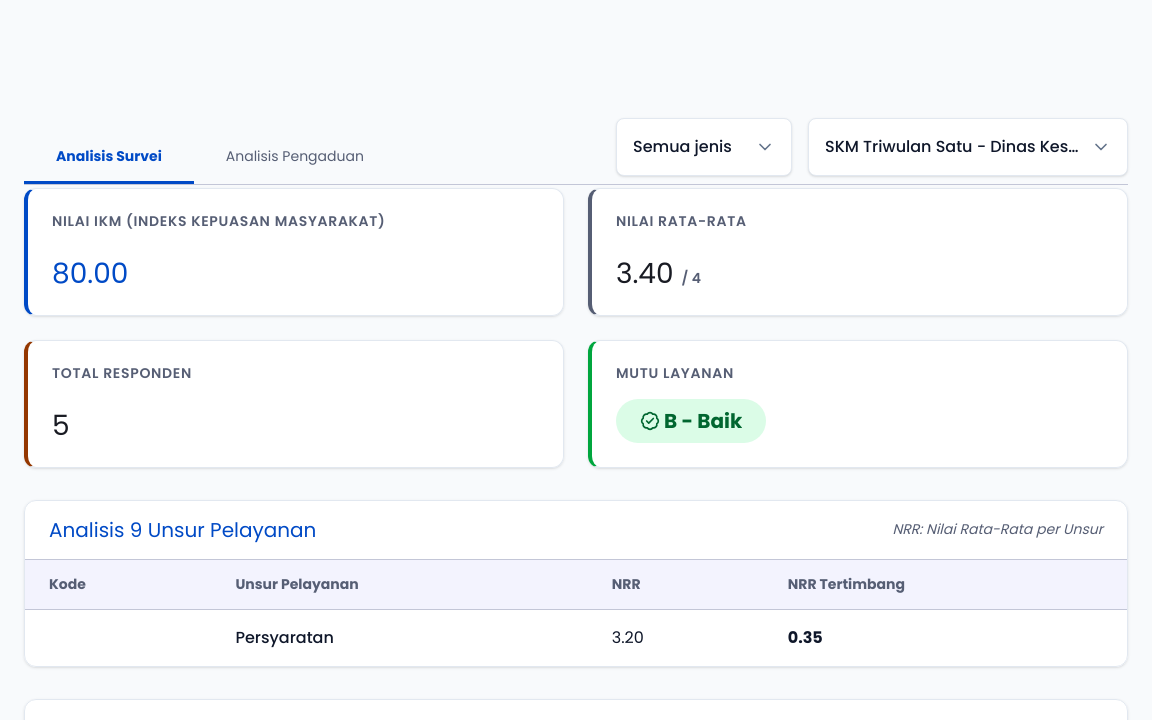
Statistik Admin Kab — penyaring jenis survei › tersaring dengan penyaring periode: periode lain tak ikut walau jenisnya cocok
This screenshot has width=1152, height=720.
What coordinates should you click on to do the following:
click the button named "jenis survei"
I would click on:
 (704, 147)
Its box is [616,118,792,176].
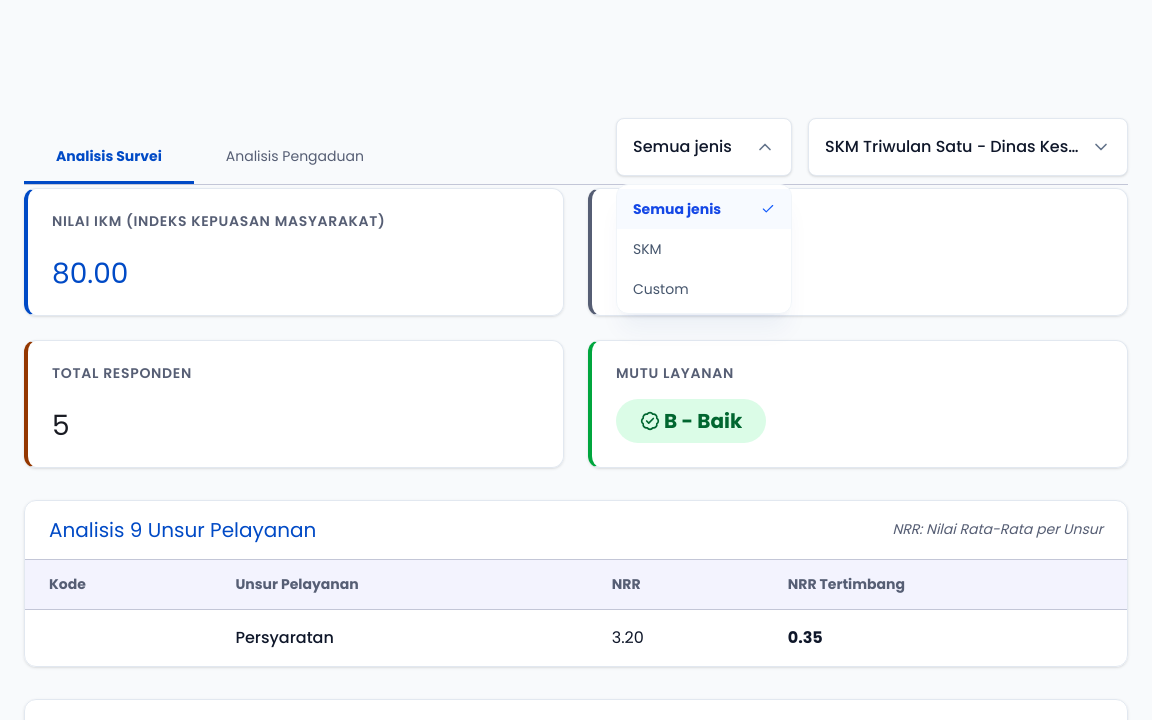
What coordinates should you click on to do the following:
click the button "Custom"
I would click on:
 (704, 289)
Its box is [617,269,791,309].
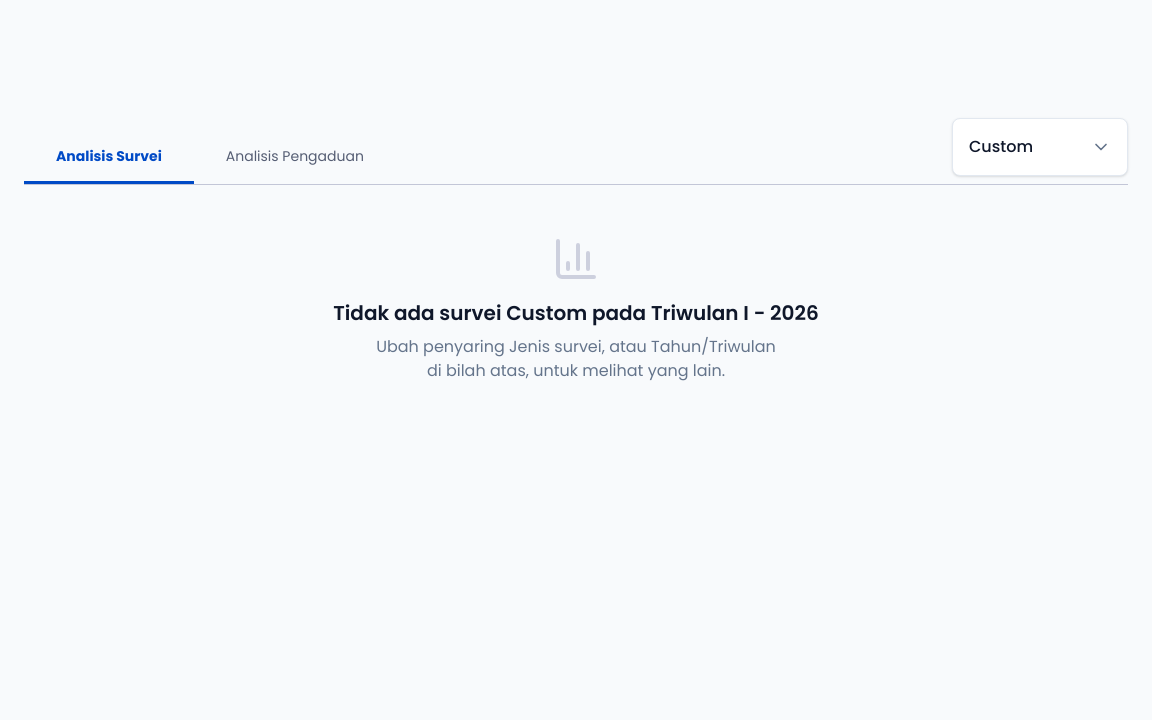
Expected: the heading "Tidak ada survei Custom pada Triwulan I - 2026" is shown, [333,299,819,327]
